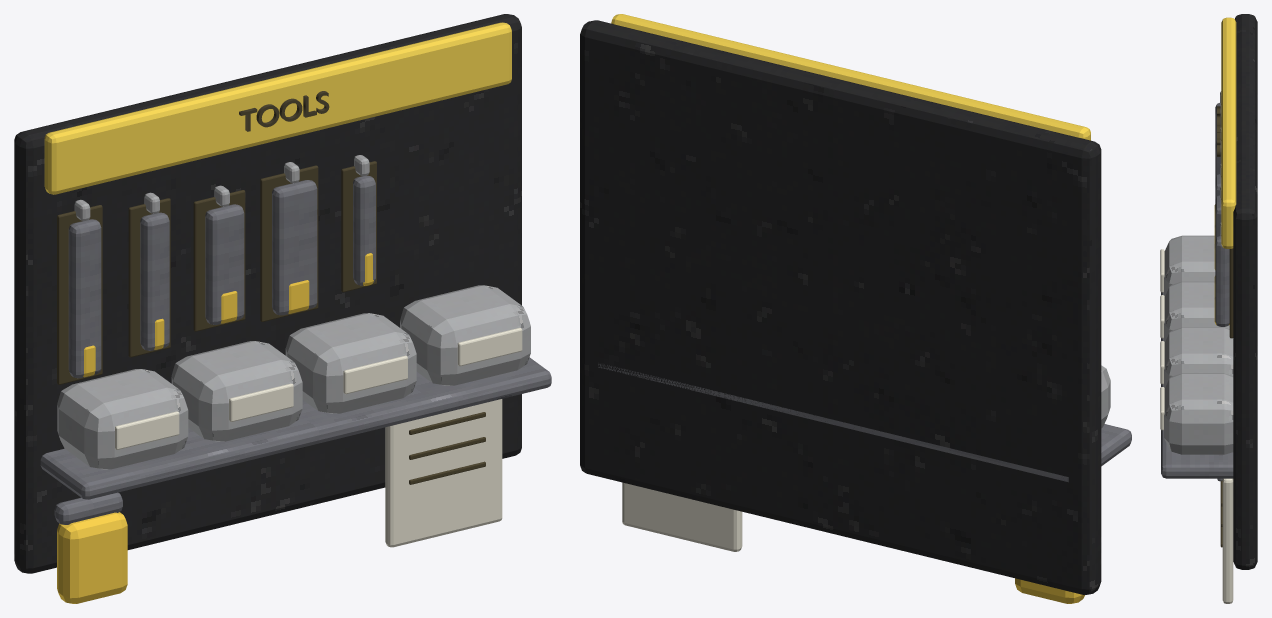
File: decor_eng_tool_board.glb
3 renders of one model, left to right at view 1: azimuth 30°, elevation 25°; view 2: azimuth 150°, elevation 25°; view 3: azimuth 270°, elevation 25°, orthographic. The views are drawn at different scales.
Parts seen in each view (by area): view 1: DEC_EngToolBoard__Backboard, DEC_EngToolBoard__Header, DEC_EngToolBoard__Bin_Shelf, DEC_EngToolBoard__Work_Log, DEC_EngToolBoard__Parts_Bin_1, DEC_EngToolBoard__Parts_Bin_3, DEC_EngToolBoard__Parts_Bin_2, DEC_EngToolBoard__Parts_Bin_4, DEC_EngToolBoard__Work_Gloves, DEC_EngToolBoard__Tool_Mallet_Body, DEC_EngToolBoard__Tool_Wrench_Body, DEC_EngToolBoard__Tool_Cutters_Body (+13 smaller); view 2: DEC_EngToolBoard__Backboard, DEC_EngToolBoard__Header, DEC_EngToolBoard__Work_Log, DEC_EngToolBoard__Bin_Shelf, DEC_EngToolBoard__Work_Gloves; view 3: DEC_EngToolBoard__Backboard, DEC_EngToolBoard__Parts_Bin_4, DEC_EngToolBoard__Header, DEC_EngToolBoard__Parts_Bin_3, DEC_EngToolBoard__Parts_Bin_2, DEC_EngToolBoard__Parts_Bin_1, DEC_EngToolBoard__Bin_Shelf, DEC_EngToolBoard__Work_Log, DEC_EngToolBoard__Tool_Driver_Body, DEC_EngToolBoard__Shadow_Driver, DEC_EngToolBoard__Tool_Mallet_Body, DEC_EngToolBoard__Header_Text (+5 smaller).
Boxes of the visible parts, x1,y1,x2,y2 form: DEC_EngToolBoard__Backboard: [14, 14, 521, 573]; DEC_EngToolBoard__Header: [44, 22, 511, 194]; DEC_EngToolBoard__Bin_Shelf: [40, 357, 551, 499]; DEC_EngToolBoard__Work_Log: [385, 399, 502, 547]; DEC_EngToolBoard__Parts_Bin_1: [57, 369, 188, 469]; DEC_EngToolBoard__Parts_Bin_3: [285, 313, 416, 413]; DEC_EngToolBoard__Parts_Bin_2: [171, 341, 302, 441]; DEC_EngToolBoard__Parts_Bin_4: [400, 285, 530, 385]; DEC_EngToolBoard__Work_Gloves: [57, 512, 127, 603]; DEC_EngToolBoard__Tool_Mallet_Body: [272, 180, 317, 315]; DEC_EngToolBoard__Tool_Wrench_Body: [68, 219, 101, 378]; DEC_EngToolBoard__Tool_Cutters_Body: [205, 204, 244, 324]; DEC_EngToolBoard__Backboard: [580, 20, 1101, 594]; DEC_EngToolBoard__Header: [611, 14, 1090, 140]; DEC_EngToolBoard__Work_Log: [622, 482, 742, 551]; DEC_EngToolBoard__Bin_Shelf: [598, 363, 1131, 482]; DEC_EngToolBoard__Work_Gloves: [1015, 578, 1084, 603]; DEC_EngToolBoard__Backboard: [1233, 14, 1257, 569]; DEC_EngToolBoard__Parts_Bin_4: [1164, 373, 1233, 454]; DEC_EngToolBoard__Header: [1221, 17, 1236, 248]; DEC_EngToolBoard__Parts_Bin_3: [1164, 327, 1233, 388]; DEC_EngToolBoard__Parts_Bin_2: [1164, 281, 1229, 342]; DEC_EngToolBoard__Parts_Bin_1: [1164, 235, 1215, 296]; DEC_EngToolBoard__Bin_Shelf: [1161, 292, 1233, 478]; DEC_EngToolBoard__Work_Log: [1222, 478, 1233, 603]; DEC_EngToolBoard__Tool_Driver_Body: [1215, 236, 1229, 326]; DEC_EngToolBoard__Shadow_Driver: [1229, 248, 1233, 338]; DEC_EngToolBoard__Tool_Mallet_Body: [1215, 195, 1221, 239]; DEC_EngToolBoard__Header_Text: [1217, 106, 1220, 156].
Bounding box in the file's own units: 1.58 × 1.49 × 0.322.
7 materials, 3 textured.
